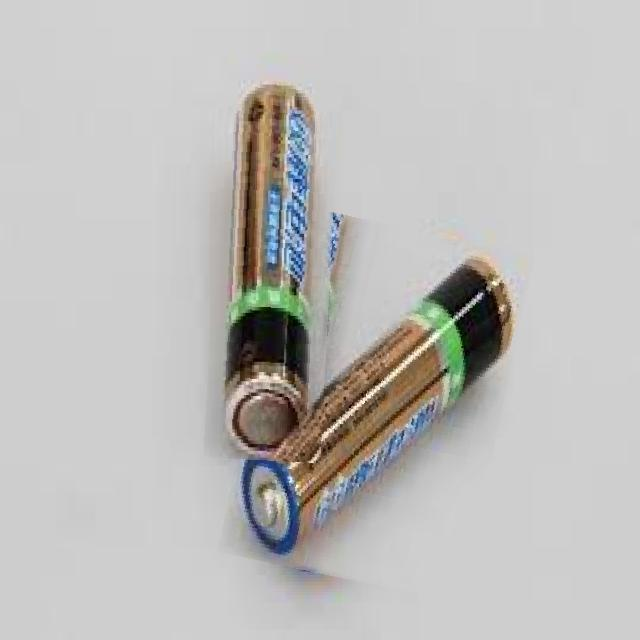Battery: (225, 240, 529, 564), (220, 60, 323, 461)
